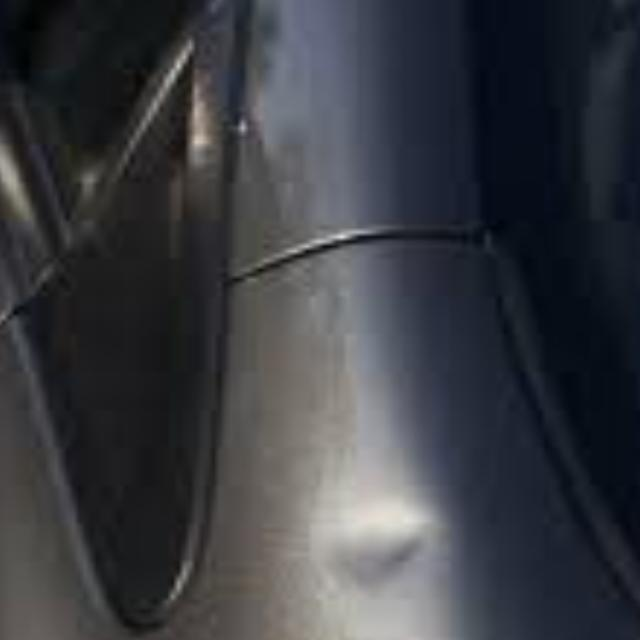dents: (300, 490, 507, 595)
